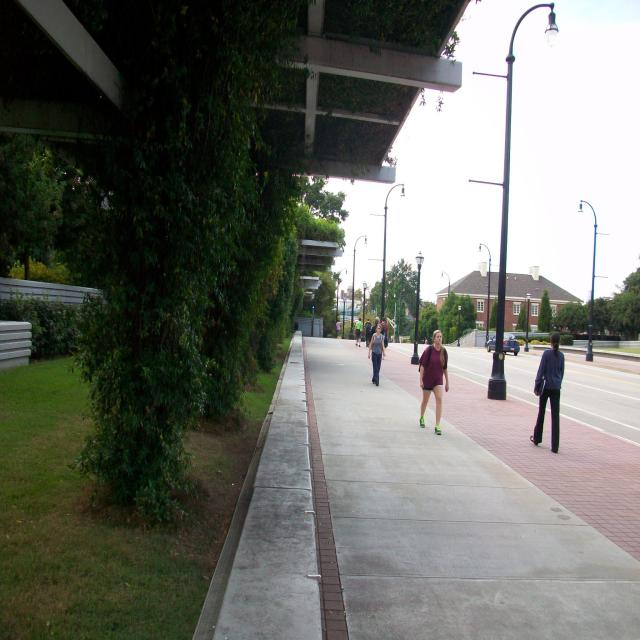body: (529, 331, 565, 453), (416, 328, 450, 438), (368, 322, 387, 387), (380, 316, 389, 361), (354, 317, 364, 348), (370, 316, 382, 336), (365, 318, 372, 348), (335, 319, 341, 339), (423, 335, 430, 345), (389, 337, 395, 343)
